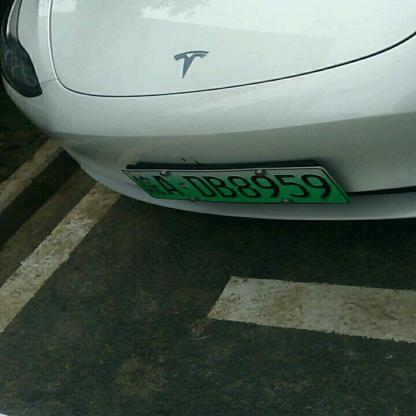lp: (121, 164, 349, 200)
